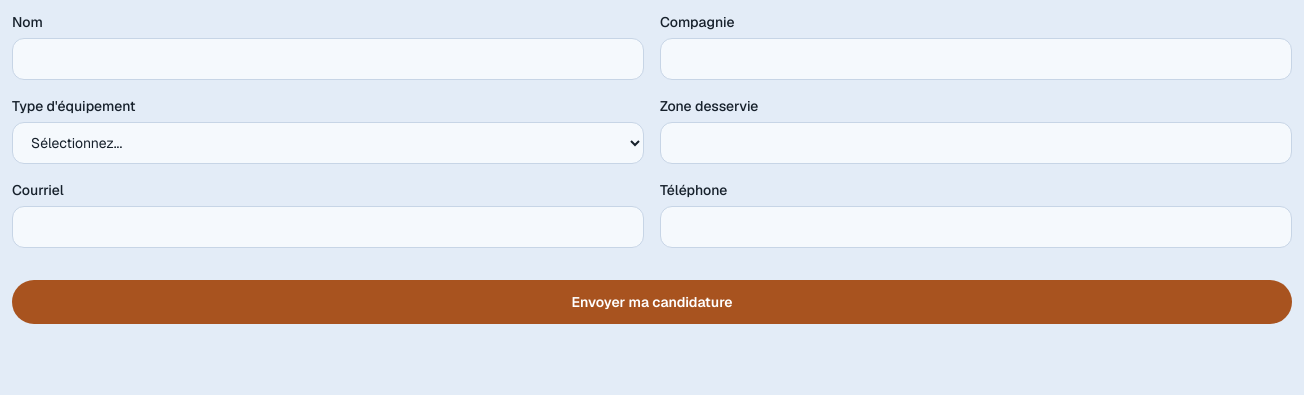
CarrierForm › shows a validation error when required fields are empty
Click the button "Envoyer ma candidature". click: click(652, 302)
box: 12,280 -> 1292,324
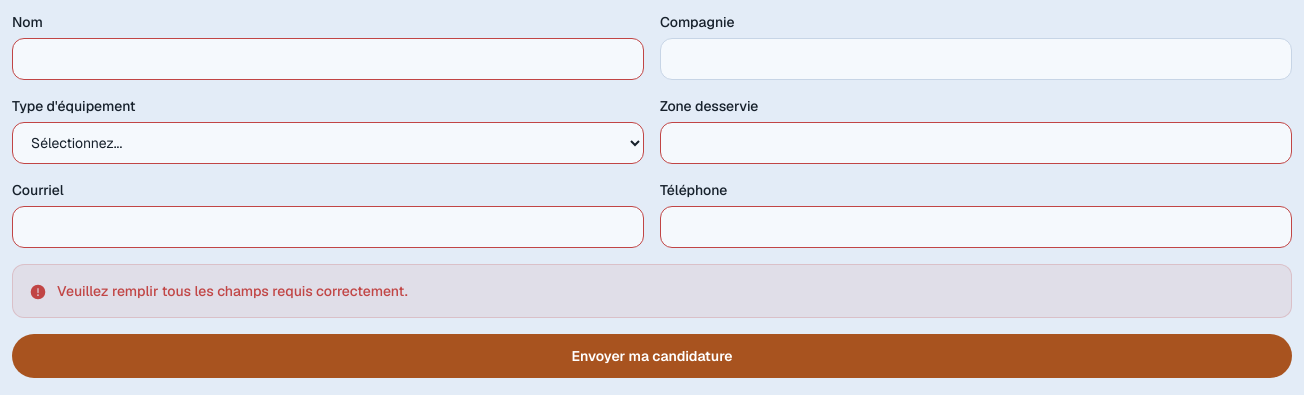
Expected: the text "Veuillez remplir tous les champs requis correctement." is shown, 57,281 -> 408,301
